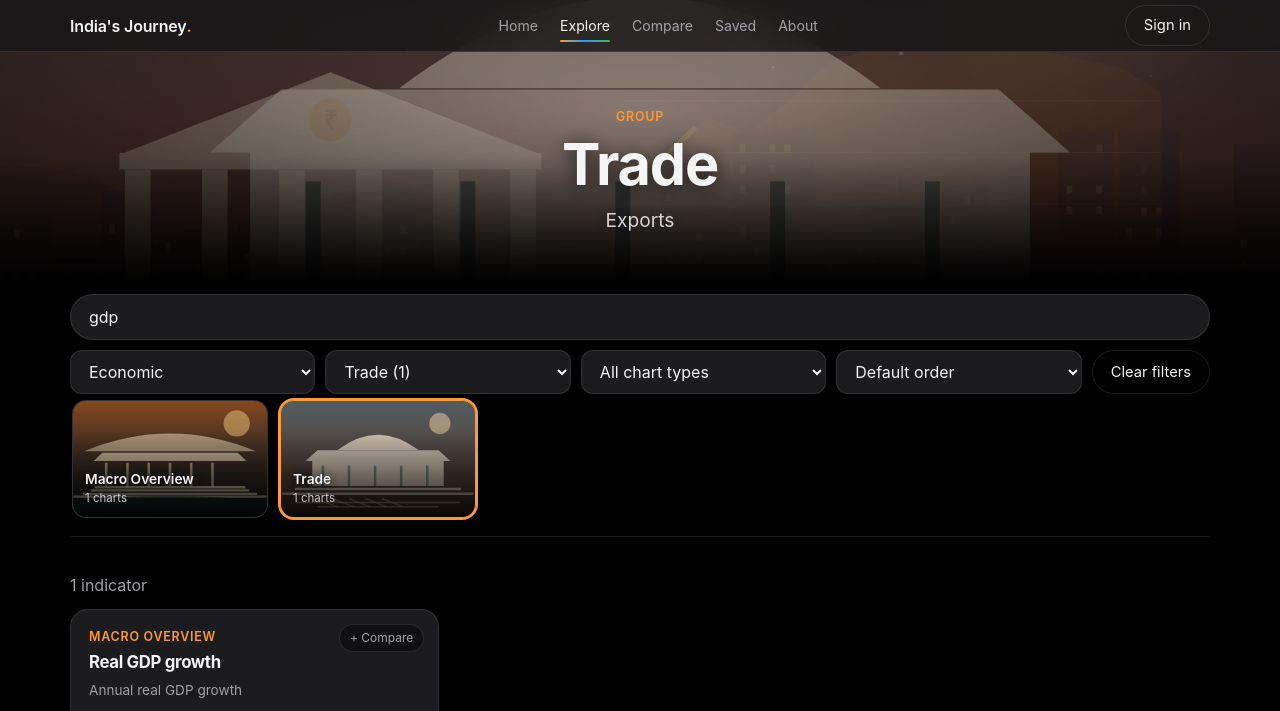
Test: Explore › reads filters from a deep link and can clear them
Expected: the heading "Trade" is shown, [562,129,718,199]
Expected: the search field named "Search indicators" holds "gdp", [70,294,1210,340]
Click the button "Clear filters": coordinates (1151, 372) [1092,350,1210,394]
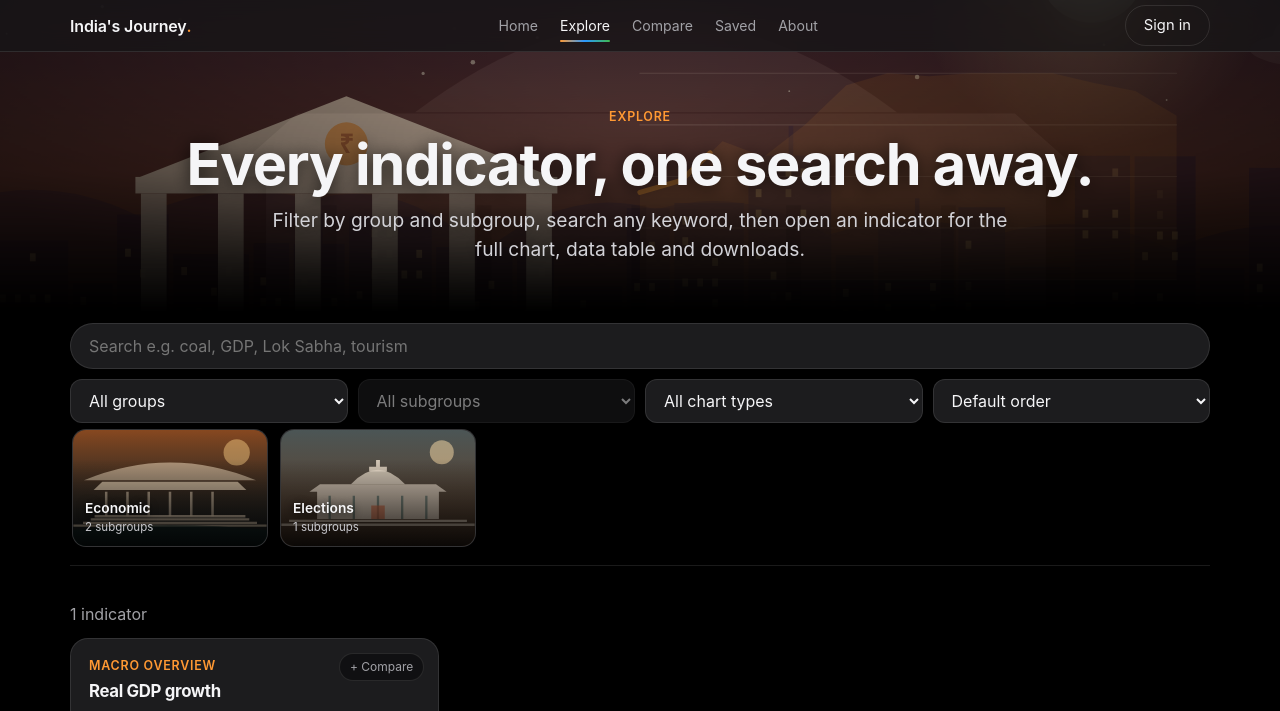
Now the search field named "Search indicators" is empty, box [70,323,1210,369]
